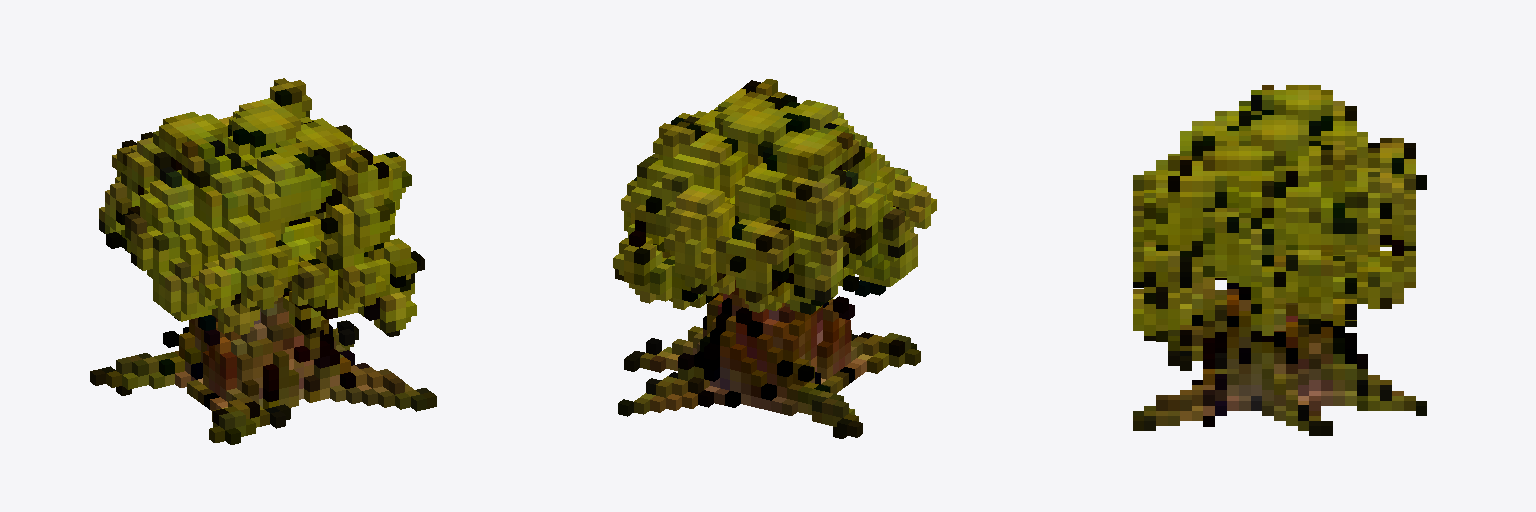
File: iter_200.obj
3 renders of one model, left to right at view 1: azimuth 30°, elevation 25°; view 2: azimuth 150°, elevation 25°; view 3: azimuth 270°, elevation 25°, orthographic.
Visible parts, largest first — view 1: iter_200; view 2: iter_200; view 3: iter_200.
Part boxes in pixels (left/top/right/bottom): iter_200: left=90, top=78, right=436, bottom=444; iter_200: left=613, top=79, right=936, bottom=438; iter_200: left=1133, top=85, right=1426, bottom=435.
Bounding box in the file's own units: 2.5 × 2.5 × 2.5.